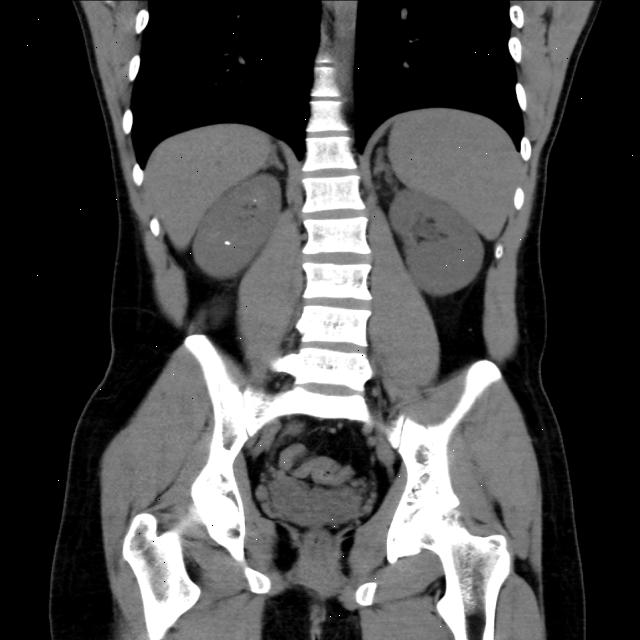kidneystone: (223, 241, 230, 245)
